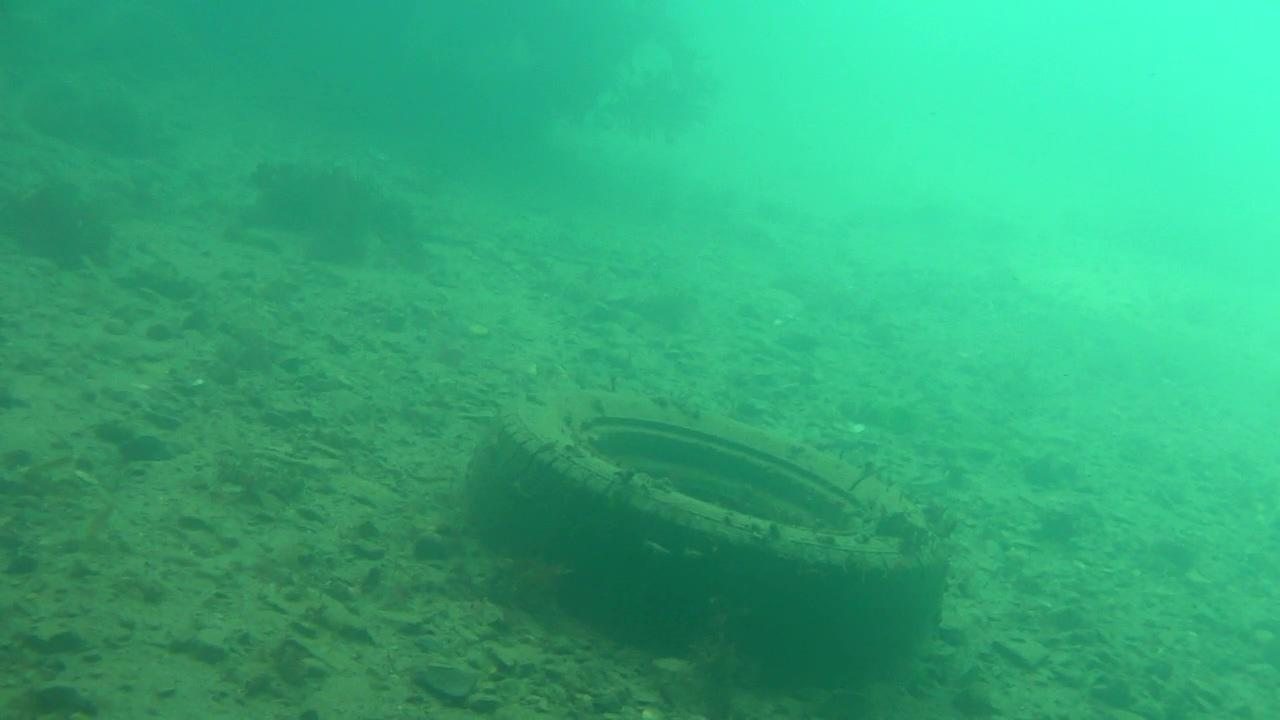tire: (495, 390, 946, 679)
